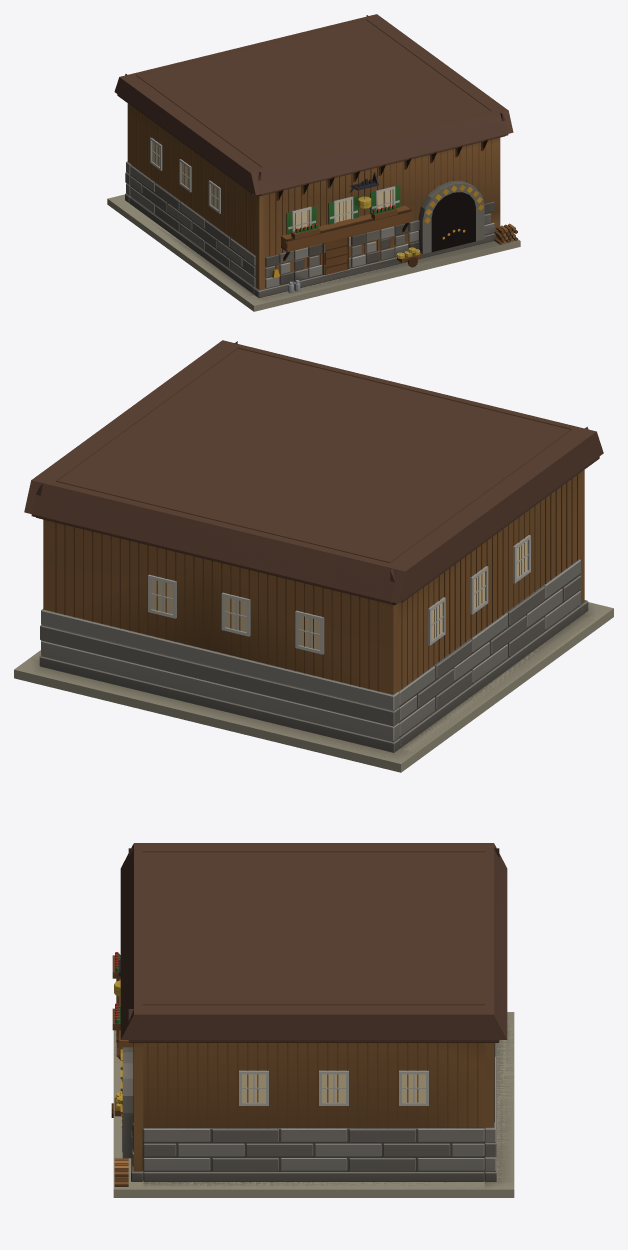
Rendered from CheeseDragonFloor.fbx.
The picture shows the model from 3 angles, top to bottom: view 1: azimuth 30°, elevation 25°; view 2: azimuth 150°, elevation 25°; view 3: azimuth 270°, elevation 25°; orthographic projection. The views are drawn at different scales.
Visible parts, largest first — view 1: DR_S_All, DR_F_Rings, DR_F_Smooth, DR_F_Quiet, DR_F_Glass, DR_F_Props; view 2: DR_S_All, DR_F_Rings, DR_F_Smooth, DR_F_Quiet, DR_F_Glass; view 3: DR_S_All, DR_F_Rings, DR_F_Smooth, DR_F_Quiet, DR_F_Glass.
Part boxes in pixels (x1=…): DR_S_All: x1=107, y1=14, x2=520, y2=311; DR_F_Rings: x1=120, y1=15, x2=508, y2=289; DR_F_Smooth: x1=117, y1=94, x2=517, y2=297; DR_F_Quiet: x1=125, y1=172, x2=519, y2=305; DR_F_Glass: x1=152, y1=141, x2=465, y2=239; DR_F_Props: x1=272, y1=196, x2=422, y2=285; DR_S_All: x1=14, y1=340, x2=613, y2=772; DR_F_Rings: x1=31, y1=341, x2=599, y2=741; DR_F_Smooth: x1=31, y1=456, x2=599, y2=752; DR_F_Quiet: x1=14, y1=575, x2=612, y2=763; DR_F_Glass: x1=151, y1=541, x2=527, y2=649; DR_S_All: x1=113, y1=843, x2=514, y2=1197; DR_F_Rings: x1=120, y1=847, x2=507, y2=1171; DR_F_Smooth: x1=111, y1=952, x2=499, y2=1186; DR_F_Quiet: x1=114, y1=1012, x2=513, y2=1189; DR_F_Glass: x1=121, y1=1074, x2=425, y2=1127.
Size of the model in its own units: 60 by 20 by 60.
